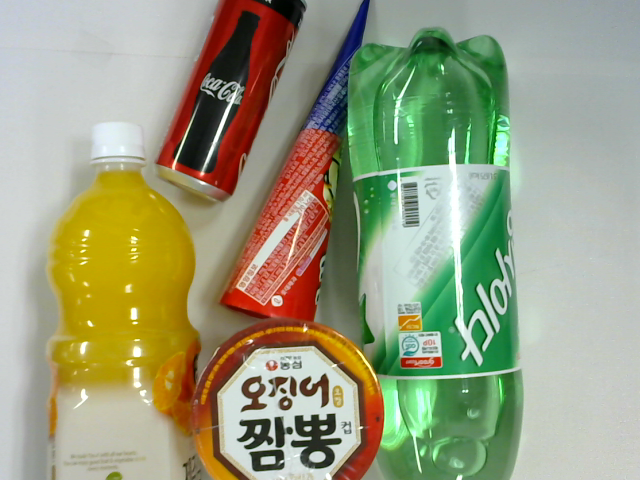Chilseong_Cider_1.5L: (345, 22, 522, 480)
Coca_Cola_Zero_Can_250ml: (154, 1, 309, 204)
Jeju_Tangerine_1.5L: (43, 122, 205, 480)
Ojjam: (194, 319, 385, 480)
World_Cone_Banila: (221, 1, 373, 327)
